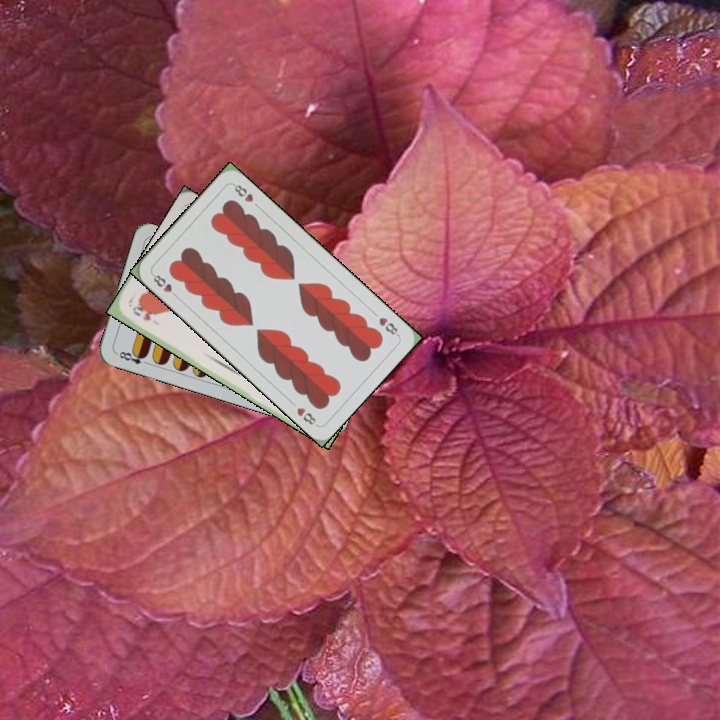E8: (112, 347, 152, 367)
H8: (148, 270, 181, 301), (375, 313, 402, 339)
HO: (128, 302, 154, 323)
